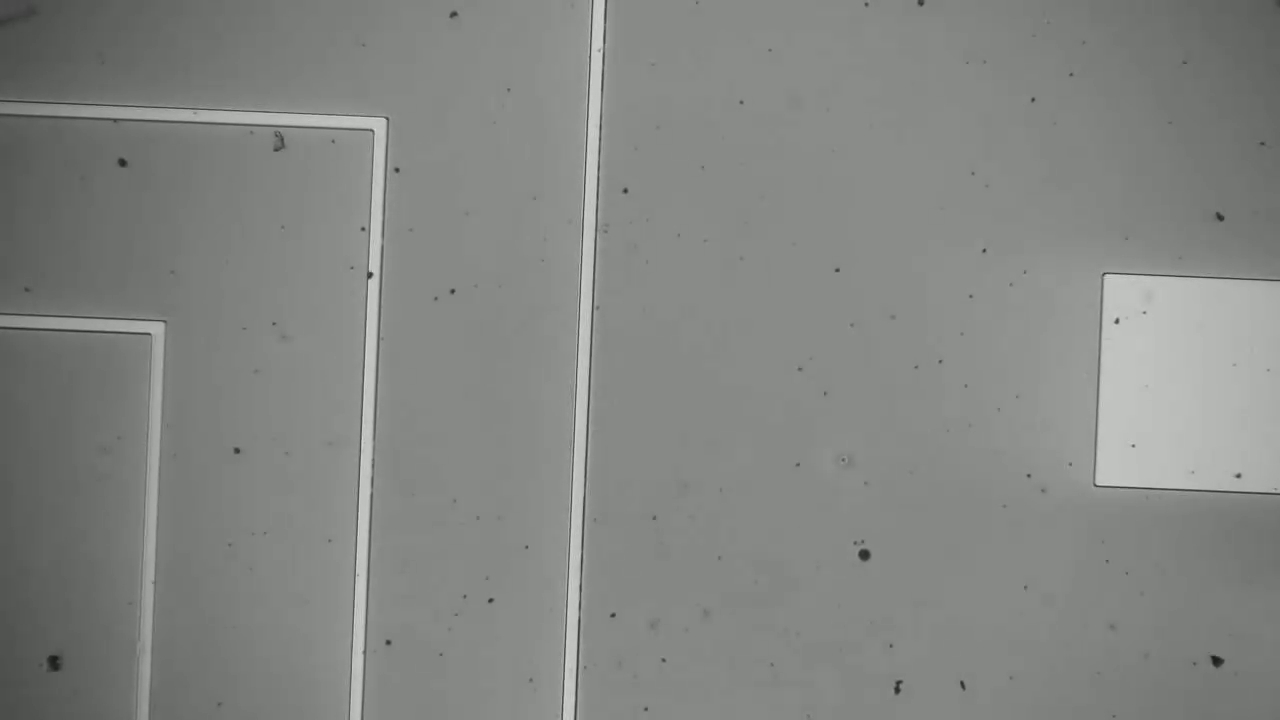stains_enbedded: (361, 262, 387, 288)
